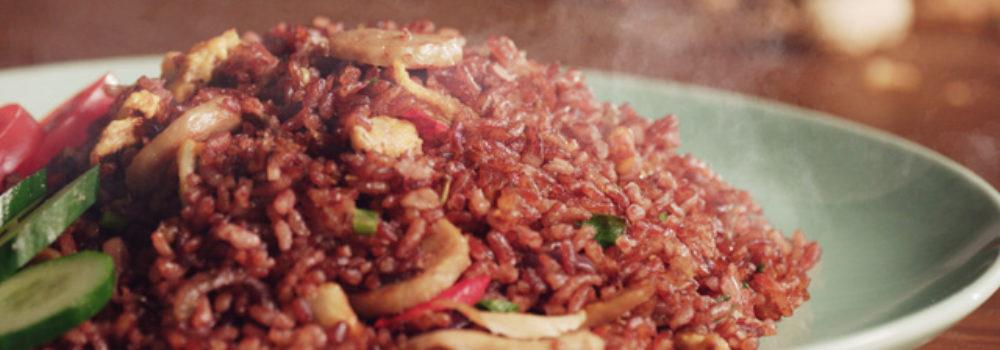Nasi Merah: (65, 29, 796, 340)
